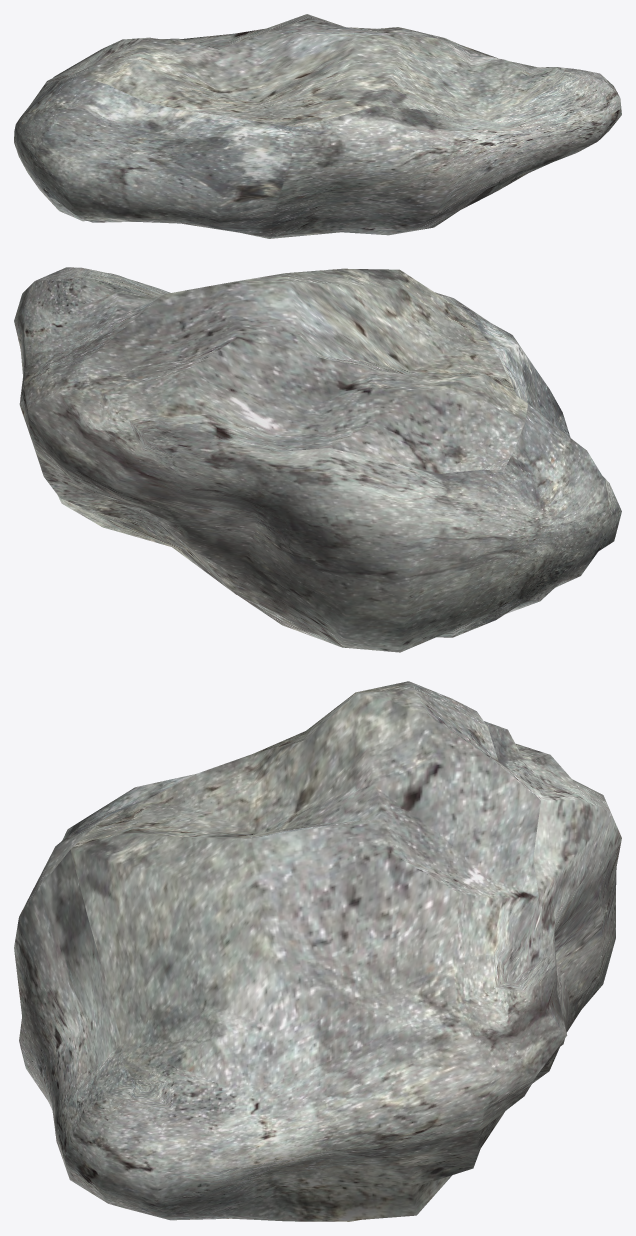
File: Rock2.fbx
3 views of the same model, one above another, from view 1: azimuth 30°, elevation 25°; view 2: azimuth 150°, elevation 25°; view 3: azimuth 270°, elevation 25° (orthographic). The views are drawn at different scales.
Parts seen in each view (by area): view 1: Cube.017; view 2: Cube.017; view 3: Cube.017.
Boxes of the visible parts, x1,y1,x2,y2 form: Cube.017: [14, 14, 621, 238]; Cube.017: [14, 267, 621, 652]; Cube.017: [14, 681, 621, 1221].
Bounding box in the file's own units: 703 × 243 × 430.
